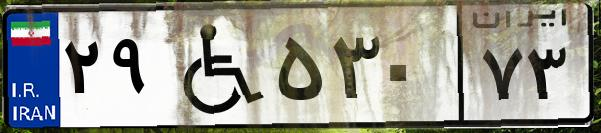0: (385, 28, 445, 110)
2: (57, 26, 110, 100)
3: (330, 28, 385, 110), (525, 38, 570, 115)
5: (270, 28, 330, 110)
7: (475, 38, 525, 113)
9: (110, 28, 158, 98)
ژ (معلولین و جانبازان): (158, 12, 270, 120)
